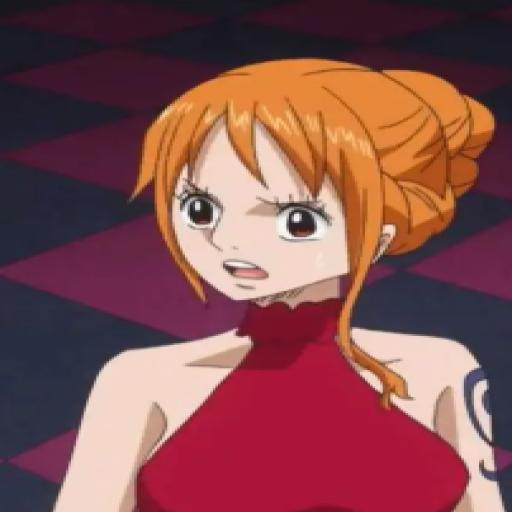Nami: (63, 54, 512, 510)
